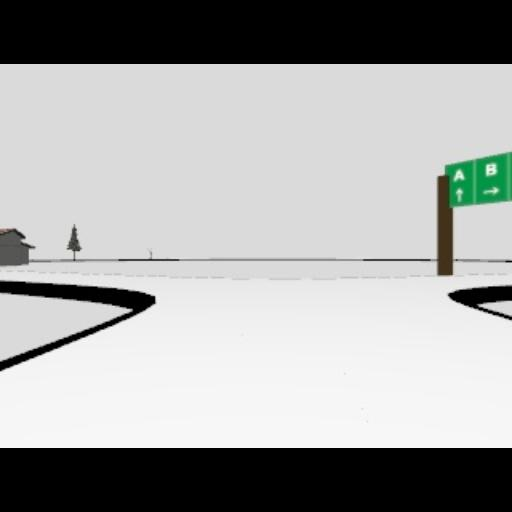A: (454, 168, 464, 182)
B: (485, 162, 497, 176)
Right: (482, 188, 500, 194)
Straight: (456, 188, 464, 202)
